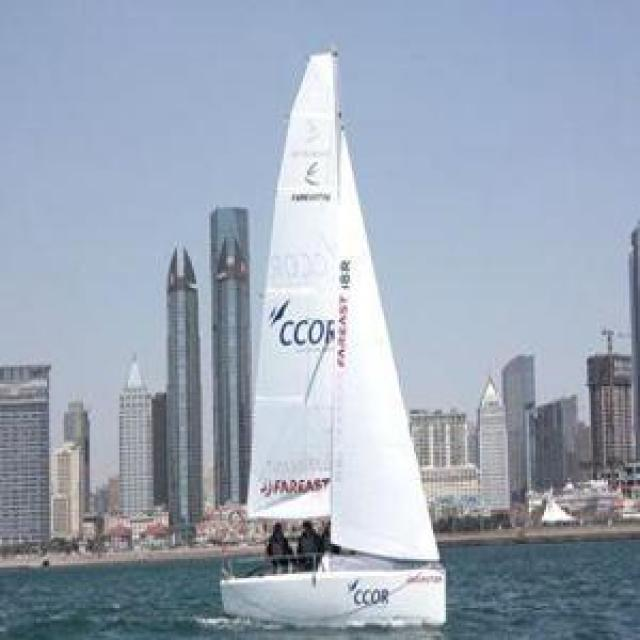sailboat: (208, 23, 453, 623)
